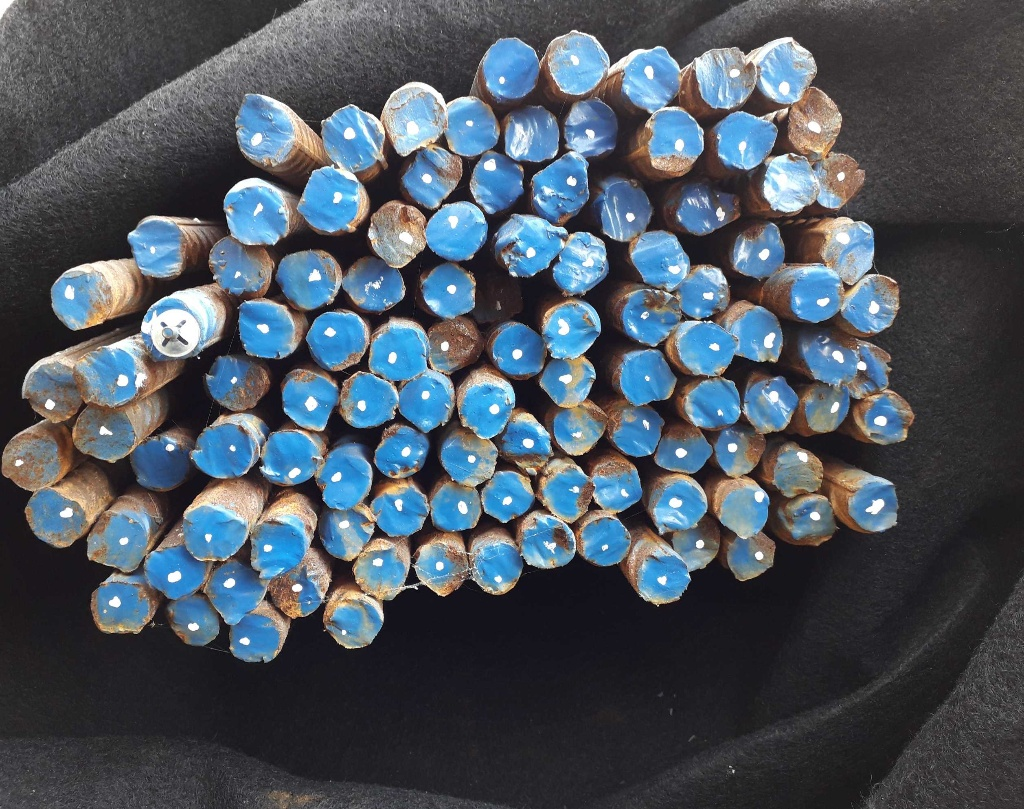dipstick: (531, 151, 589, 223), (225, 180, 288, 244), (385, 83, 446, 149), (141, 296, 204, 359), (235, 94, 295, 160), (298, 167, 359, 231), (496, 214, 560, 275), (323, 105, 383, 170), (757, 38, 817, 103), (51, 266, 112, 329), (694, 48, 757, 109), (74, 346, 137, 406), (645, 109, 704, 173), (208, 353, 275, 409), (548, 32, 608, 94), (627, 230, 689, 290), (788, 87, 841, 156), (278, 251, 341, 309), (369, 202, 426, 266), (87, 511, 147, 571), (281, 369, 339, 431), (623, 49, 680, 112), (192, 424, 258, 478), (25, 488, 87, 545), (676, 320, 737, 377), (716, 112, 776, 169), (183, 505, 246, 559), (307, 312, 365, 370), (404, 148, 463, 205), (129, 217, 185, 277), (210, 236, 270, 292), (553, 233, 608, 294), (23, 363, 81, 420), (544, 301, 601, 359), (73, 404, 133, 459), (471, 151, 525, 212), (91, 583, 155, 634), (823, 221, 874, 285), (2, 434, 60, 490), (484, 38, 539, 97), (763, 153, 818, 212), (239, 299, 294, 357), (844, 273, 899, 331), (270, 564, 329, 618), (622, 292, 681, 346), (344, 256, 404, 309), (446, 97, 499, 157), (145, 546, 207, 597), (492, 323, 548, 379), (370, 324, 427, 379), (262, 431, 321, 484), (600, 181, 653, 240), (131, 437, 191, 489), (206, 561, 267, 612), (399, 374, 453, 431), (792, 264, 845, 322), (800, 328, 858, 381), (319, 506, 375, 560), (340, 373, 396, 427), (506, 104, 559, 161), (459, 382, 512, 439), (618, 352, 675, 405), (678, 182, 735, 235), (854, 390, 912, 442), (324, 597, 383, 648), (813, 154, 866, 210), (729, 306, 782, 362), (653, 423, 712, 473), (421, 264, 475, 318), (318, 454, 371, 509), (565, 100, 618, 155), (540, 355, 595, 408), (541, 466, 594, 521), (677, 265, 730, 320), (684, 378, 740, 430), (440, 434, 497, 485), (251, 520, 305, 573), (428, 319, 481, 373), (374, 425, 429, 477), (654, 479, 706, 534), (733, 223, 785, 277), (745, 377, 797, 431), (353, 547, 406, 599), (415, 544, 467, 597), (521, 517, 575, 568), (553, 404, 606, 455), (166, 595, 220, 645), (672, 514, 720, 570), (716, 424, 766, 477), (228, 614, 283, 662), (372, 486, 427, 534), (482, 471, 533, 522), (590, 461, 641, 512), (473, 542, 522, 595), (609, 406, 662, 455), (504, 415, 552, 469), (576, 518, 631, 565), (719, 487, 769, 538), (432, 480, 481, 531), (637, 555, 689, 603), (849, 481, 897, 531), (845, 342, 889, 396), (727, 532, 775, 581), (773, 450, 823, 495), (804, 382, 849, 431), (789, 498, 835, 539)
